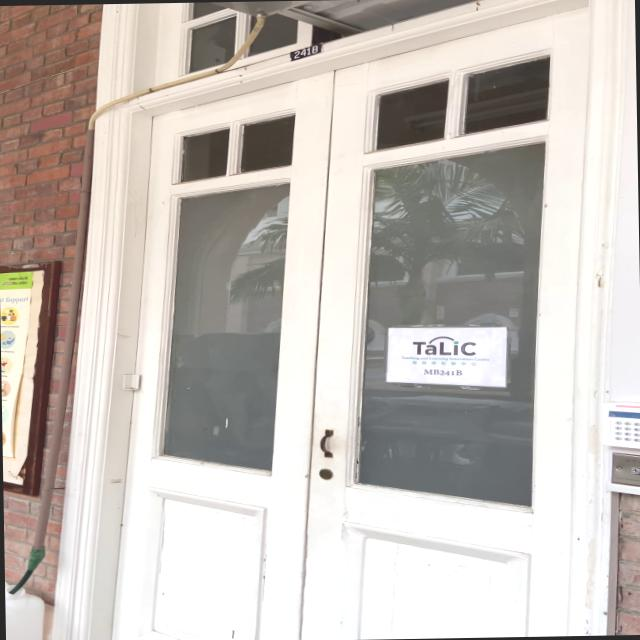room241b: (286, 43, 322, 61)
